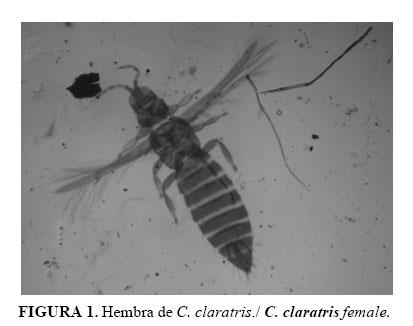Thripidae: (51, 40, 285, 276)
